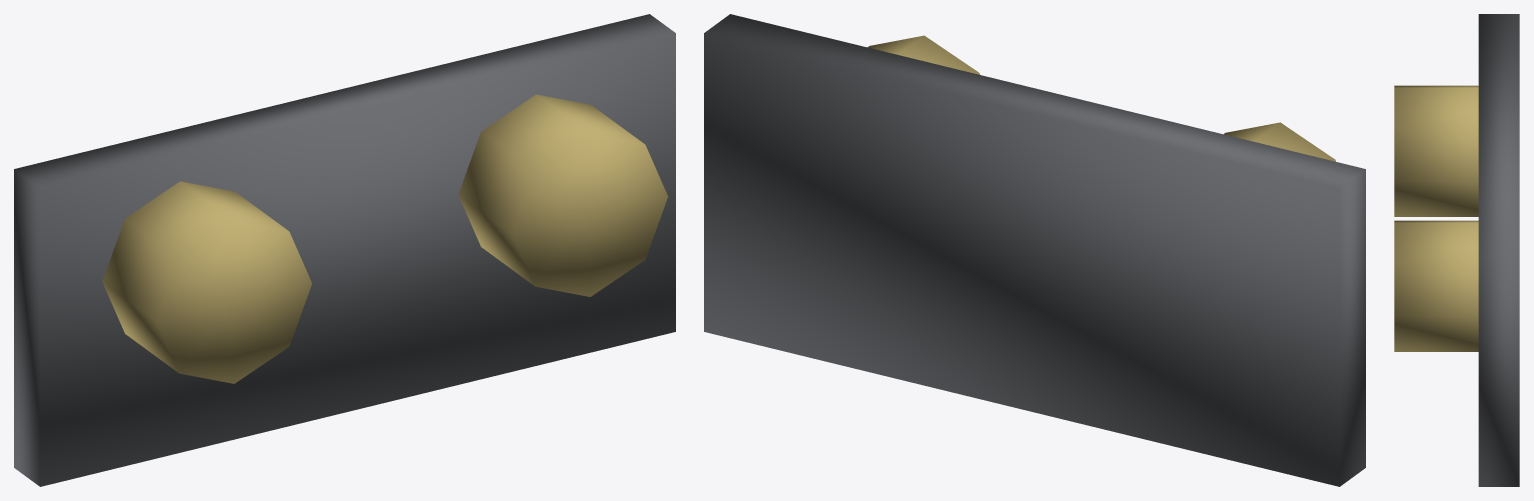
The model's file is emergency_light_pair_12.glb.
3 views of the same model, side by side, from view 1: azimuth 30°, elevation 25°; view 2: azimuth 150°, elevation 25°; view 3: azimuth 270°, elevation 25° (orthographic). The views are drawn at different scales.
Visible parts, largest first — view 1: world; view 2: world; view 3: world.
Part boxes in pixels (x1,y1,x2,y2): world: [14, 14, 675, 486]; world: [704, 14, 1365, 486]; world: [1394, 14, 1519, 486].
Bounding box in the file's own units: 0.49 × 0.22 × 0.1075.
